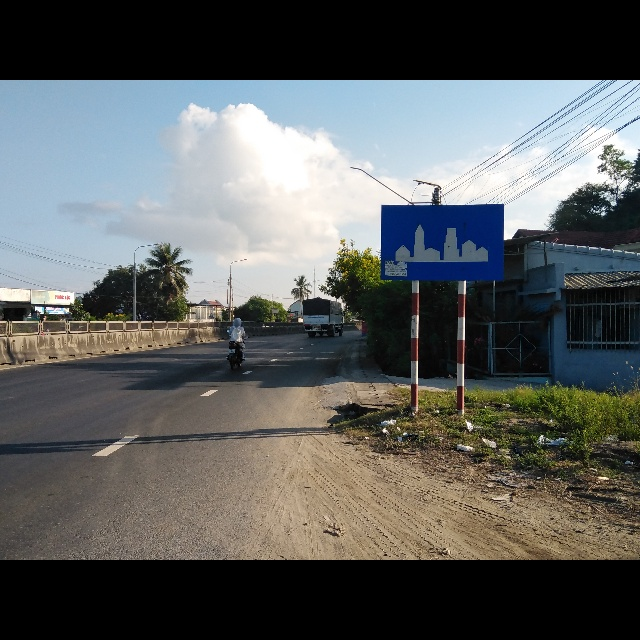Khu đông dân cư: (380, 203, 505, 282)
